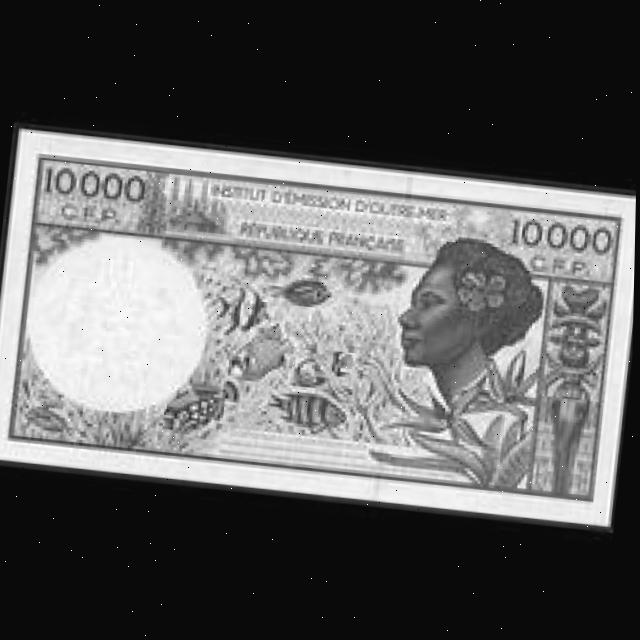banknote: (0, 127, 638, 523), (34, 160, 156, 210), (507, 211, 619, 256)
